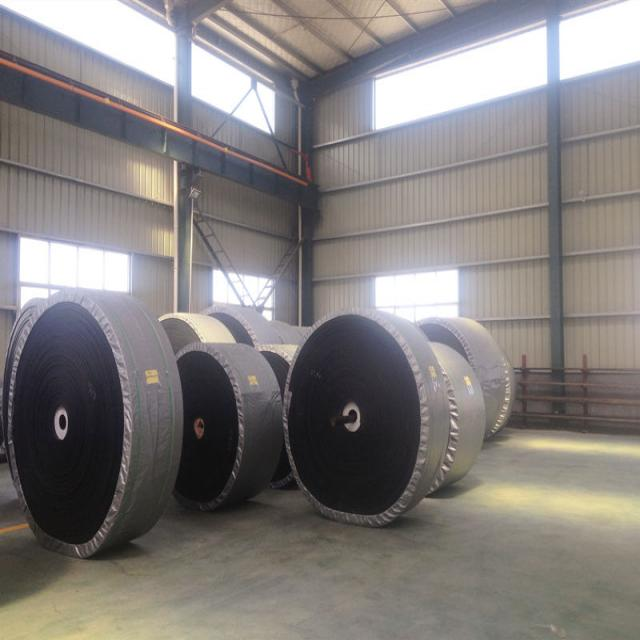convoyeur: (5, 288, 183, 562), (282, 306, 442, 533), (180, 338, 285, 516), (417, 313, 512, 446), (158, 313, 234, 348), (216, 302, 277, 343)
